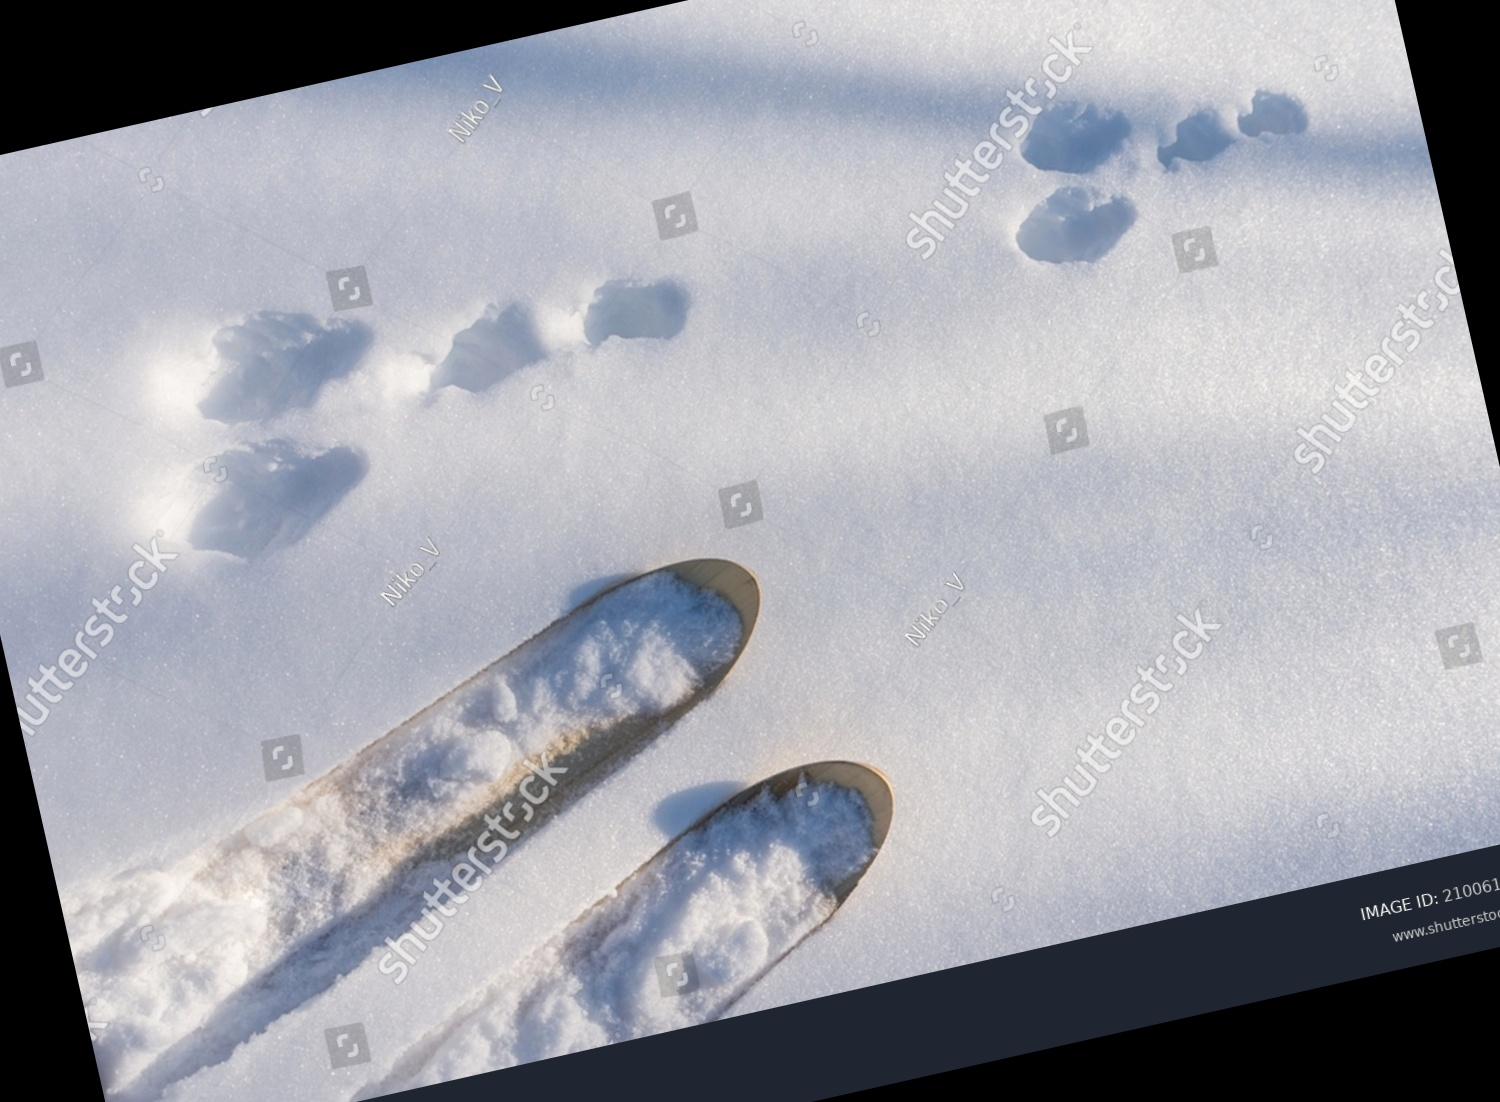rabbit: (95, 144, 780, 605), (953, 9, 1398, 322)
